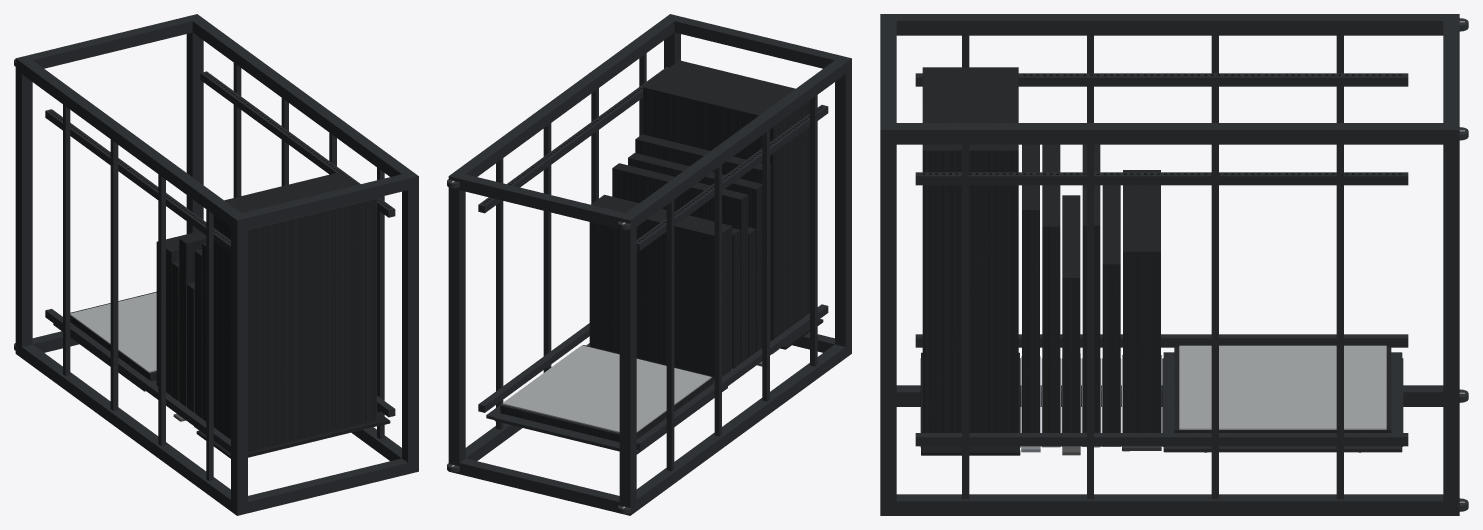
The model's file is juniper-mx-24u.glb.
The picture shows the model from 3 angles, left to right: view 1: azimuth 30°, elevation 25°; view 2: azimuth 150°, elevation 25°; view 3: azimuth 270°, elevation 25°; orthographic projection. The views are drawn at different scales.
Parts seen in each view (by area): view 1: RACK_FRAME__nexus_black, MX240__steel_textured, SIDE_BRACES__nexus_black, MOUNTING_RAILS__nexus_black, BLANK_MX__cisco_grey_dark, EX4300_48T__steel_textured, SMT1500RM2U__steel_textured, QFX5120_48Y__steel_textured, SRX1500__steel_textured, MX240__mx_chassis, EX4400_48P__steel_textured, MX204__steel_textured (+2 smaller); view 2: RACK_FRAME__nexus_black, MX240__steel_textured, SMT1500RM2U__steel_textured, SIDE_BRACES__nexus_black, BLANK_MX__cisco_grey_dark, MOUNTING_RAILS__nexus_black, EX4300_48T__steel_textured, QFX5120_48Y__steel_textured, MX204__steel_textured, BLANK_MX__steel_textured, BLANK_MX__nexus_black, SRX1500__steel_textured (+2 smaller); view 3: RACK_FRAME__nexus_black, MX240__steel_textured, MOUNTING_RAILS__nexus_black, BLANK_MX__cisco_grey_dark, SIDE_BRACES__nexus_black, SMT1500RM2U__steel_textured, QFX5120_48Y__steel_textured, MX204__steel_textured, SRX1500__steel_textured, EX4400_48P__steel_textured, BLANK_MX__nexus_black, EX4300_48T__steel_textured (+3 smaller).
Boxes of the visible parts, x1,y1,x2,y2 form: RACK_FRAME__nexus_black: (15, 14, 418, 515); MX240__steel_textured: (213, 172, 376, 451); SIDE_BRACES__nexus_black: (63, 63, 384, 480); MOUNTING_RAILS__nexus_black: (45, 71, 395, 452); BLANK_MX__cisco_grey_dark: (70, 292, 156, 372); EX4300_48T__steel_textured: (179, 233, 206, 407); SMT1500RM2U__steel_textured: (156, 231, 202, 395); QFX5120_48Y__steel_textured: (195, 249, 202, 418); SRX1500__steel_textured: (171, 260, 179, 401); MX240__mx_chassis: (196, 411, 390, 458); EX4400_48P__steel_textured: (187, 282, 194, 412); MX204__steel_textured: (202, 243, 206, 421); RACK_FRAME__nexus_black: (448, 14, 851, 515); MX240__steel_textured: (643, 60, 809, 340); SMT1500RM2U__steel_textured: (589, 194, 732, 379); SIDE_BRACES__nexus_black: (496, 53, 817, 471); BLANK_MX__cisco_grey_dark: (502, 345, 711, 432); MOUNTING_RAILS__nexus_black: (478, 67, 828, 450); EX4300_48T__steel_textured: (612, 163, 748, 362); QFX5120_48Y__steel_textured: (628, 153, 762, 351); MX204__steel_textured: (635, 134, 771, 341); BLANK_MX__steel_textured: (500, 345, 713, 442); BLANK_MX__nexus_black: (486, 381, 727, 454); SRX1500__steel_textured: (732, 228, 740, 368); RACK_FRAME__nexus_black: (880, 14, 1459, 515); MX240__steel_textured: (922, 67, 1018, 432); MOUNTING_RAILS__nexus_black: (915, 73, 1408, 446); BLANK_MX__cisco_grey_dark: (1179, 345, 1386, 429); SIDE_BRACES__nexus_black: (962, 35, 1343, 499); SMT1500RM2U__steel_textured: (1123, 170, 1160, 432); QFX5120_48Y__steel_textured: (1042, 144, 1060, 432); MX204__steel_textured: (1022, 144, 1039, 432); SRX1500__steel_textured: (1102, 185, 1120, 432); EX4400_48P__steel_textured: (1062, 195, 1080, 432); BLANK_MX__nexus_black: (1162, 352, 1403, 452); EX4300_48T__steel_textured: (1082, 144, 1100, 432).
Bounding box in the file's own units: 0.609 × 0.9401 × 1.3.
Materials: 147 (8 with a texture image).
